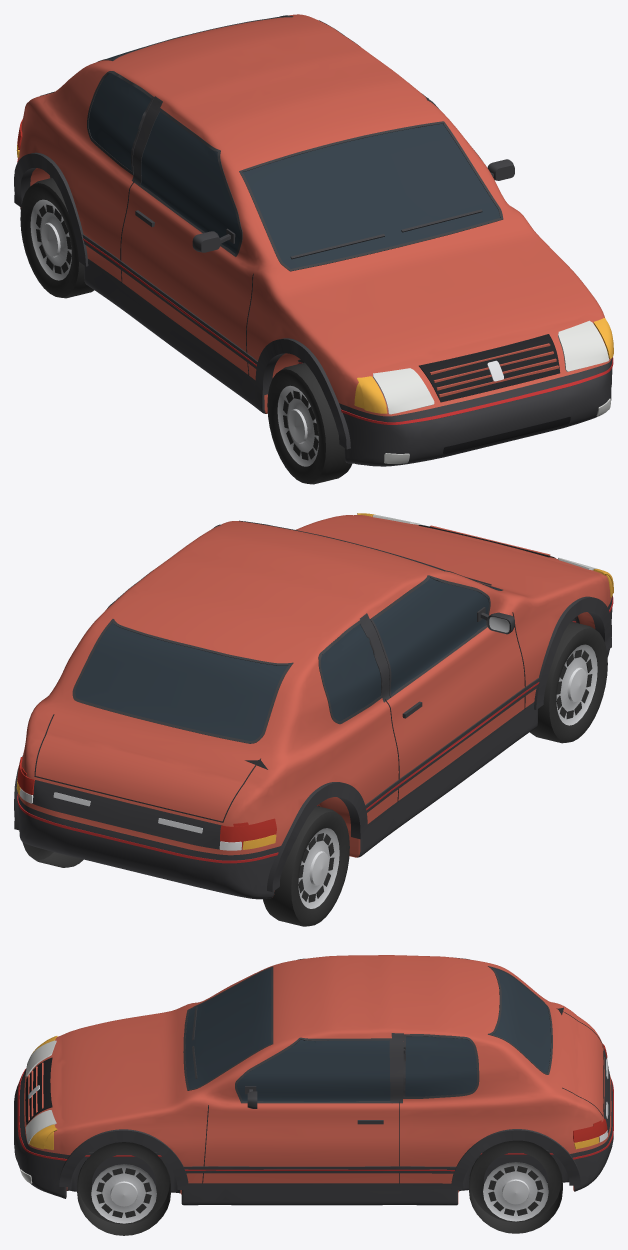
The model's file is peugeot205.glb.
3 renders of one model, top to bottom at view 1: azimuth 30°, elevation 25°; view 2: azimuth 150°, elevation 25°; view 3: azimuth 270°, elevation 25°, orthographic. The views are drawn at different scales.
Parts seen in each view (by area): view 1: paint, glass, trim, wheel_fr, wheel_rr, headlights, mirrors, front_blinker_right; view 2: paint, glass, trim, wheel_rr, wheel_fr, taillights, wheel_rl, mirrors; view 3: paint, glass, trim, wheel_fl, wheel_rl, headlights, taillights, front_blinker_left.
Boxes of the visible parts, x1,y1,x2,y2 form: paint: (18, 14, 612, 466); glass: (88, 16, 500, 268); trim: (14, 15, 613, 463); wheel_fr: (267, 362, 351, 484); wheel_rr: (20, 178, 94, 298); headlights: (373, 320, 609, 414); mirrors: (192, 159, 514, 252); front_blinker_right: (354, 376, 387, 413); paint: (18, 515, 612, 899); glass: (75, 556, 499, 740); trim: (14, 520, 613, 891); wheel_rr: (263, 806, 349, 926); wheel_fr: (530, 621, 607, 743); taillights: (17, 757, 276, 847); wheel_rl: (22, 842, 83, 867); mirrors: (477, 607, 514, 634); paint: (14, 955, 613, 1205); glass: (185, 968, 550, 1101); trim: (14, 957, 613, 1190); wheel_fl: (77, 1142, 170, 1235); wheel_rl: (469, 1140, 562, 1233); headlights: (25, 1040, 56, 1143); taillights: (573, 1044, 607, 1142); front_blinker_left: (29, 1124, 57, 1149).
Bounding box in the file's own units: 1.76 × 1.33 × 3.71.
